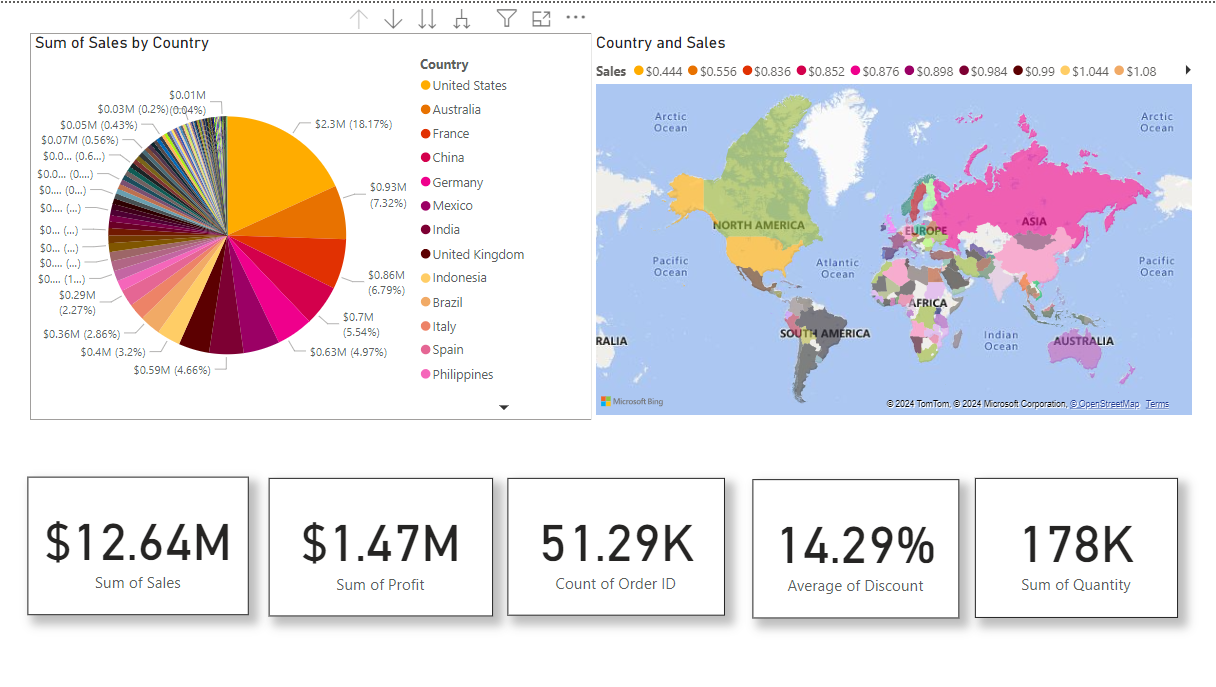

This screenshot's page, from the dashboard's own definition file:
{"tool":"powerbi","page":{"name":"Page 2","canvas":[1280,720],"ordinal":2},"visuals":[{"type":"pieChart","fields":{"Category":["Orders.Geography.Country","Orders.Geography.State","Orders.Geography.City","Orders.Geography.Region"],"Y":["Sum(Orders.Sales)"]},"box":[31.8,31.8,590.6,407.2],"z":0},{"type":"card","fields":{"Values":["Sum(Orders.Sales)"]},"box":[28.5,499.1,233,146],"z":1000},{"type":"card","fields":{"Values":["Sum(Orders.Profit)"]},"box":[282.5,500.5,235.8,146],"z":2000},{"type":"card","fields":{"Values":["Avg(Orders.Discount)"]},"box":[792.5,501.2,217.5,146.2],"z":3000},{"type":"card","fields":{"Values":["Sum(Orders.Quantity)"]},"box":[1026.3,500.5,213.3,147.4],"z":4000},{"type":"card","fields":{"Values":["CountNonNull(Orders.Order ID)"]},"box":[533.7,500.5,228.8,144.6],"z":5000},{"type":"filledMap","fields":{"Series":["Orders.Sales"],"Category":["Orders.Country"]},"box":[622.4,31.8,638.3,407.2],"z":6000}]}

Visuals, with their boxes in screenshot pixels (x1, y1, x2, y2), scaled from the page's 1280x720 canvas onto the 1216x687 screenshot:
pieChart - Orders.Geography.Country x Orders.Geography.State: l=30, t=30, r=591, b=419
card - Sum(Orders.Sales): l=27, t=476, r=248, b=616
card - Sum(Orders.Profit): l=268, t=478, r=492, b=617
card - Avg(Orders.Discount): l=753, t=478, r=960, b=618
card - Sum(Orders.Quantity): l=975, t=478, r=1178, b=618
card - CountNonNull(Orders.Order ID): l=507, t=478, r=724, b=616
filledMap - Orders.Sales x Orders.Country: l=591, t=30, r=1198, b=419
